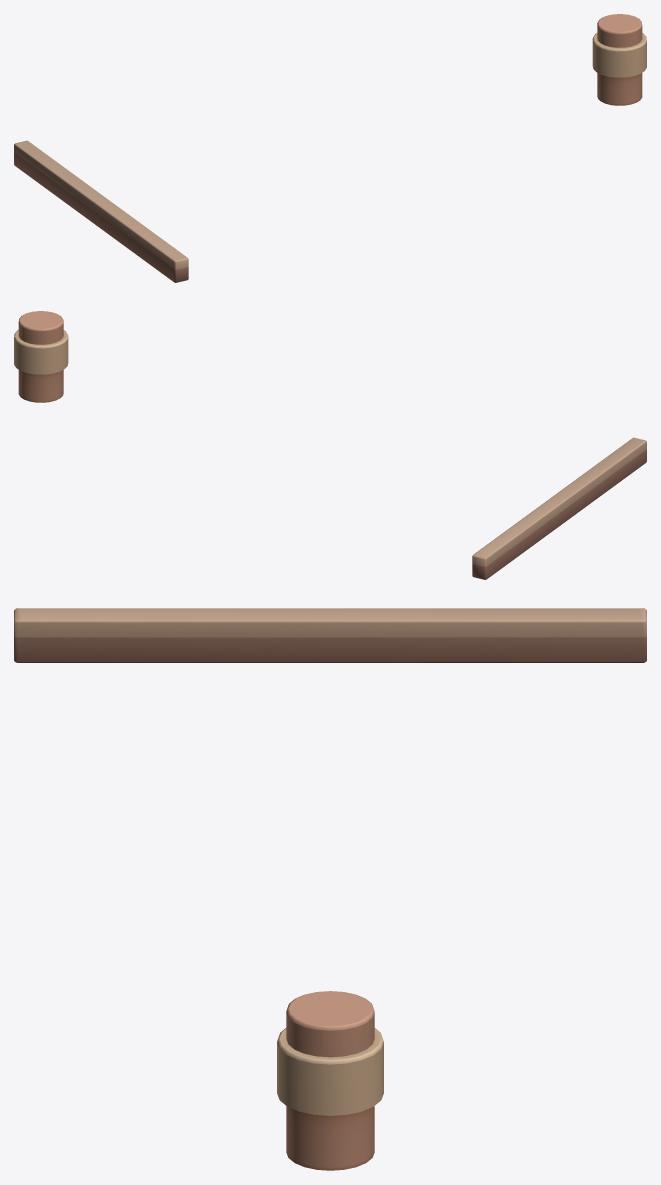
The model's file is Props.fbx.
3 renders of one model, top to bottom at view 1: azimuth 30°, elevation 25°; view 2: azimuth 150°, elevation 25°; view 3: azimuth 270°, elevation 25°, orthographic. The views are drawn at different scales.
Visible parts, largest first — view 1: Box20-3_1, Cylinder-2; view 2: Box20-3_1, Cylinder-2; view 3: Box20-3_1, Cylinder-2.
Boxes of the visible parts, <box> form: Box20-3_1: <box>14,140,188,282</box>; Cylinder-2: <box>592,14,646,105</box>; Box20-3_1: <box>472,437,646,579</box>; Cylinder-2: <box>14,311,68,402</box>; Box20-3_1: <box>14,608,646,662</box>; Cylinder-2: <box>277,991,383,1170</box>.
Bounding box in the file's own units: 39.19 × 5 × 20.
Materials: 2 (2 with a texture image).
